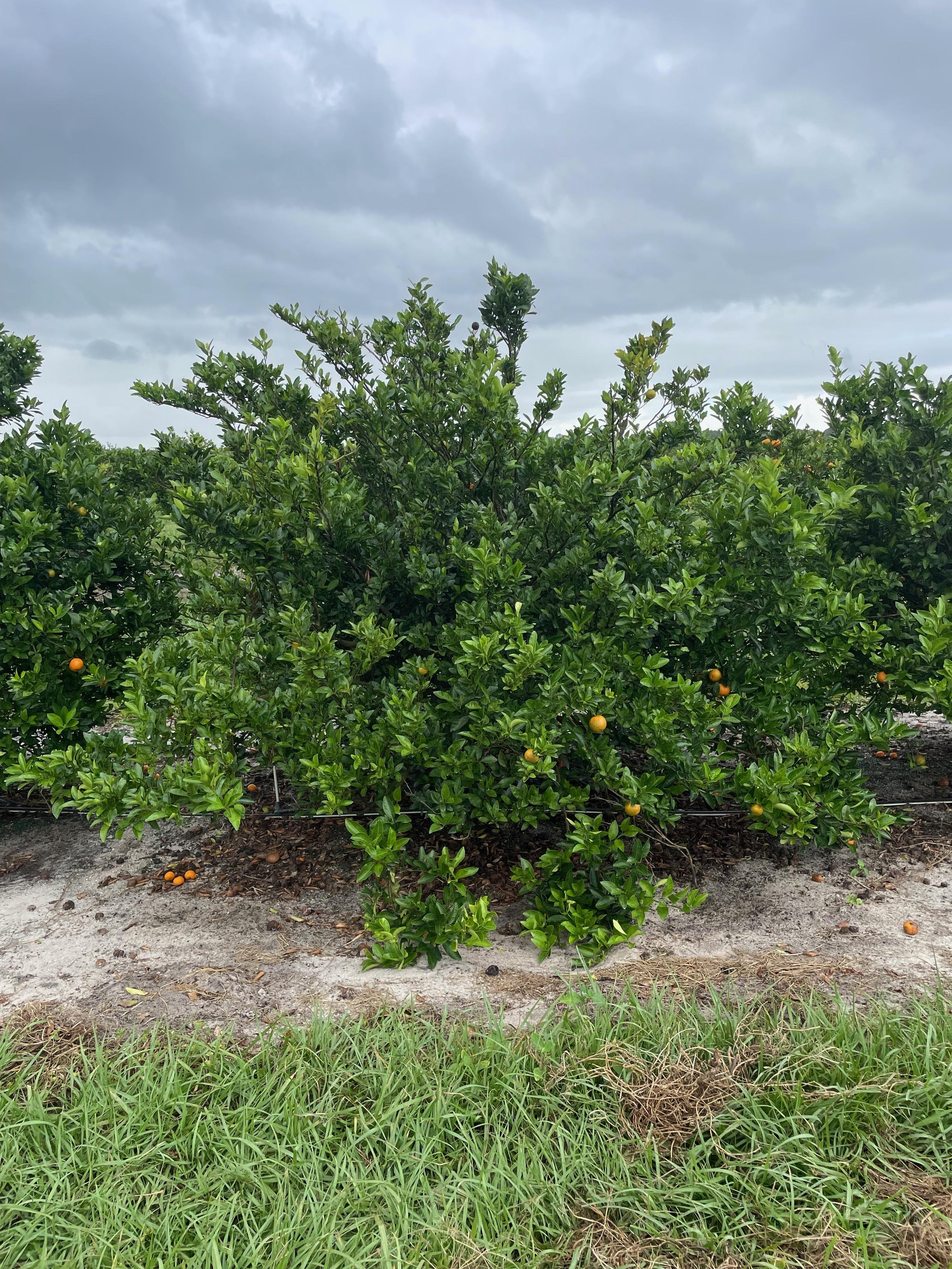fruit_on_ground: (621, 795, 644, 818), (586, 713, 610, 735), (91, 668, 113, 691), (66, 655, 87, 673), (713, 680, 733, 698), (706, 666, 725, 684), (523, 747, 541, 765), (748, 801, 766, 818), (874, 669, 891, 686), (42, 565, 58, 581), (74, 503, 89, 518), (768, 435, 783, 449), (914, 754, 927, 768), (644, 387, 657, 401), (416, 663, 430, 676), (761, 435, 774, 448), (471, 321, 481, 331)
fruit_on_tree: (901, 918, 920, 935), (264, 850, 280, 863), (809, 870, 824, 883), (172, 873, 186, 886), (184, 867, 197, 879), (246, 781, 259, 792), (161, 869, 174, 880), (937, 777, 949, 788), (874, 748, 886, 758), (888, 749, 899, 759)
